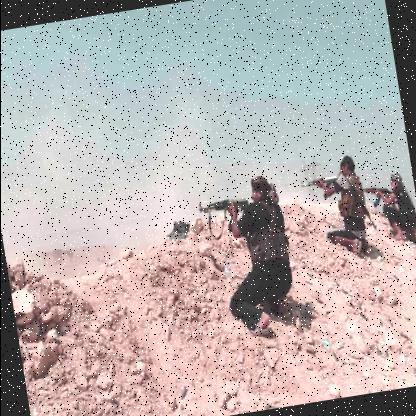rifle: (197, 190, 255, 227), (298, 169, 346, 204), (360, 176, 399, 213)
